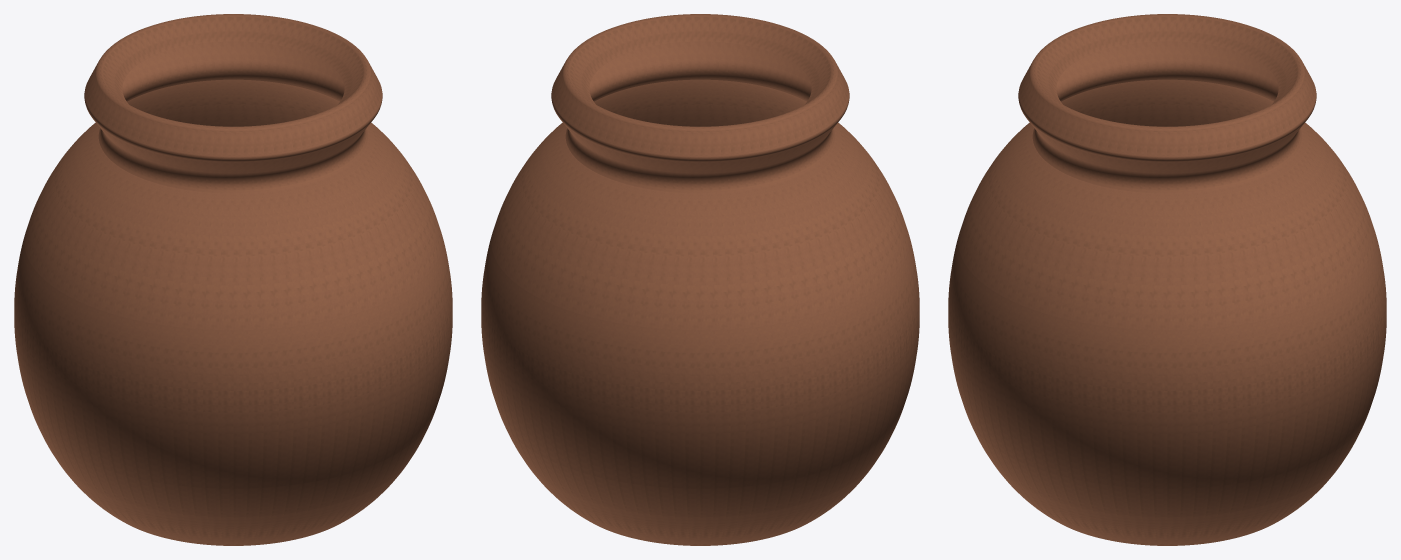
File: jarron.fbx
3 views of the same model, side by side, from view 1: azimuth 30°, elevation 25°; view 2: azimuth 150°, elevation 25°; view 3: azimuth 270°, elevation 25° (orthographic).
Parts seen in each view (by area): view 1: Component_1_1; view 2: Component_1_1; view 3: Component_1_1.
Part boxes in pixels (left/top/right/bottom): Component_1_1: left=14, top=14, right=452, bottom=545; Component_1_1: left=481, top=14, right=919, bottom=545; Component_1_1: left=948, top=14, right=1386, bottom=545.
Size of the model in its own units: 645 by 679 by 645.
